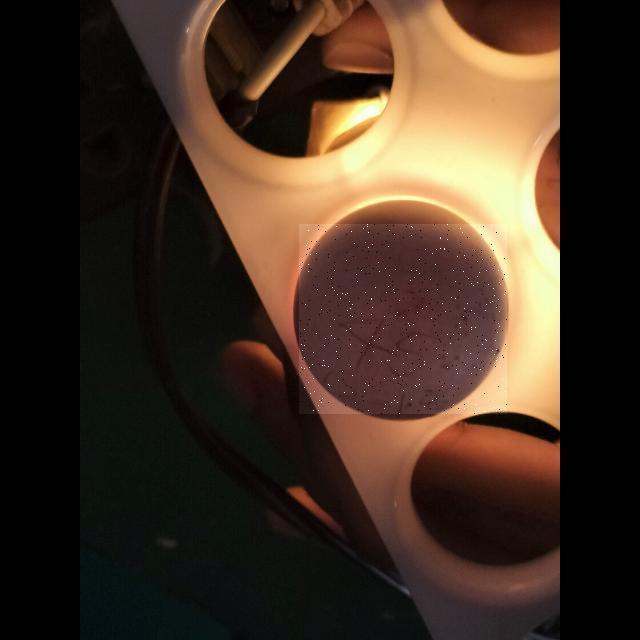Fertile: (299, 224, 507, 414)
